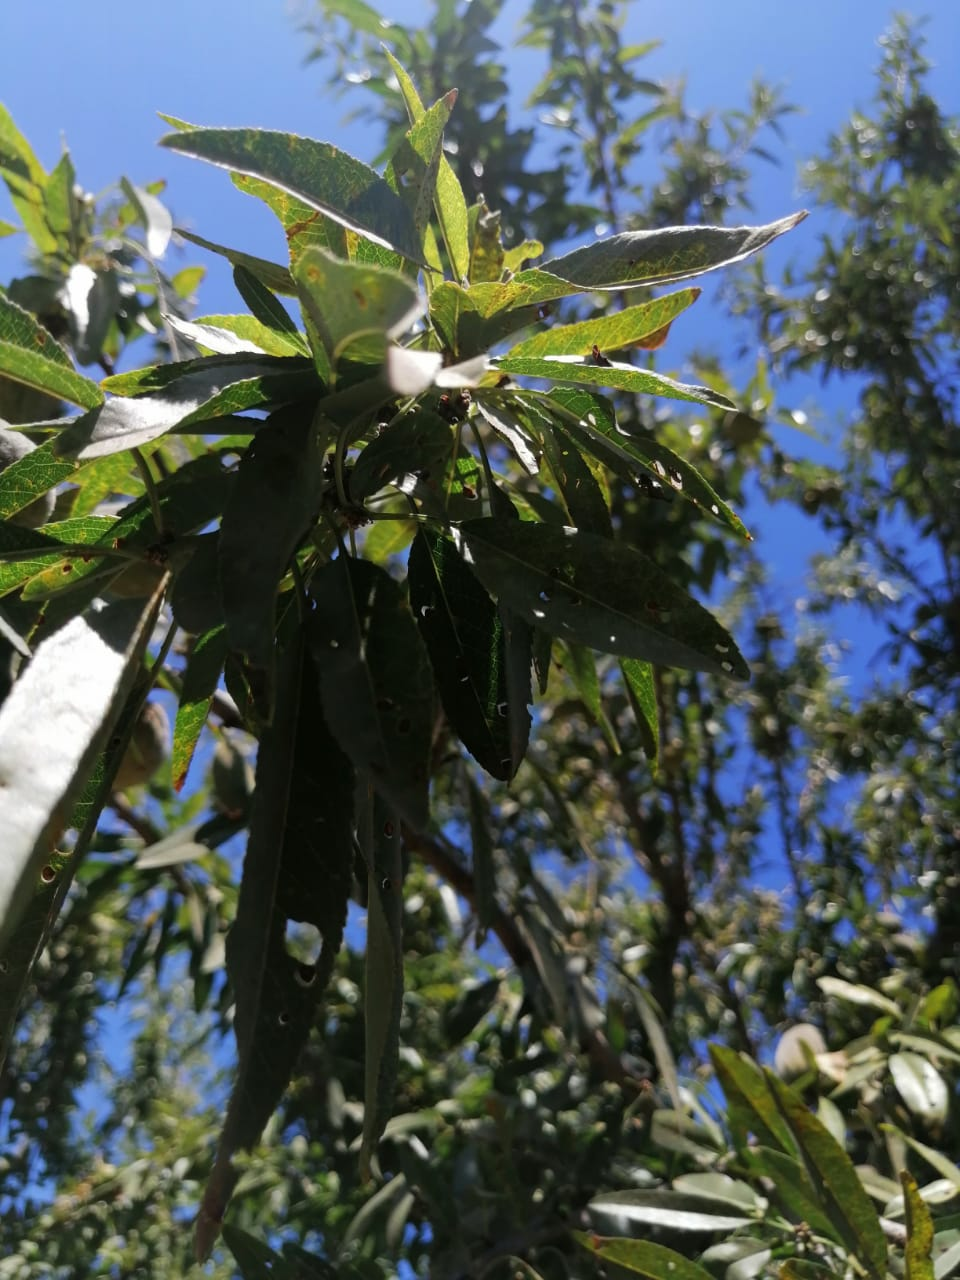coryneum: (356, 83, 463, 273)
